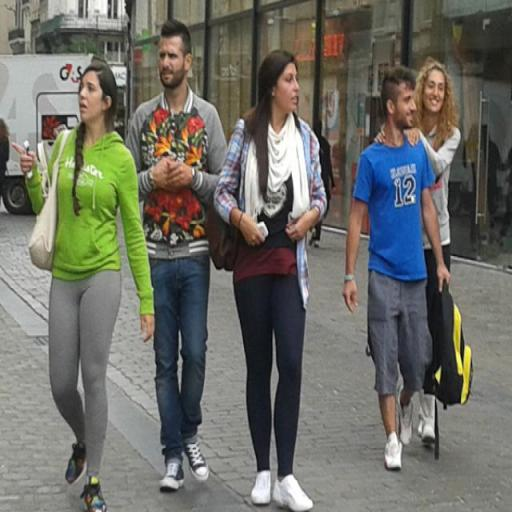person: (14, 58, 153, 512), (125, 20, 232, 489), (217, 48, 315, 512), (344, 64, 454, 470), (409, 60, 464, 445), (310, 123, 338, 248)
